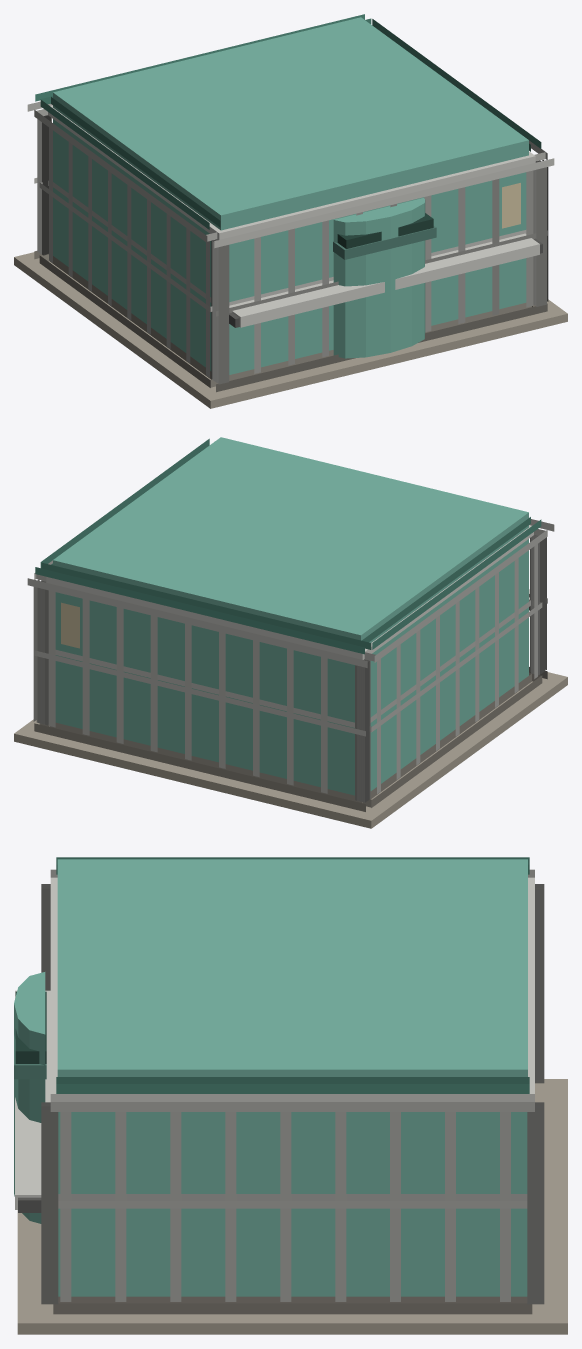
The model's file is SpringAntelopeSil.fbx.
The picture shows the model from 3 angles, top to bottom: view 1: azimuth 30°, elevation 25°; view 2: azimuth 150°, elevation 25°; view 3: azimuth 270°, elevation 25°; orthographic projection. The views are drawn at different scales.
Parts seen in each view (by area): view 1: SP_S_All; view 2: SP_S_All; view 3: SP_S_All.
Part boxes in pixels (bbox=[...]): SP_S_All: bbox=[14, 14, 567, 408]; SP_S_All: bbox=[14, 437, 567, 828]; SP_S_All: bbox=[14, 857, 567, 1334].
Size of the model in its own units: 42.04 by 19.9 by 40.31.
